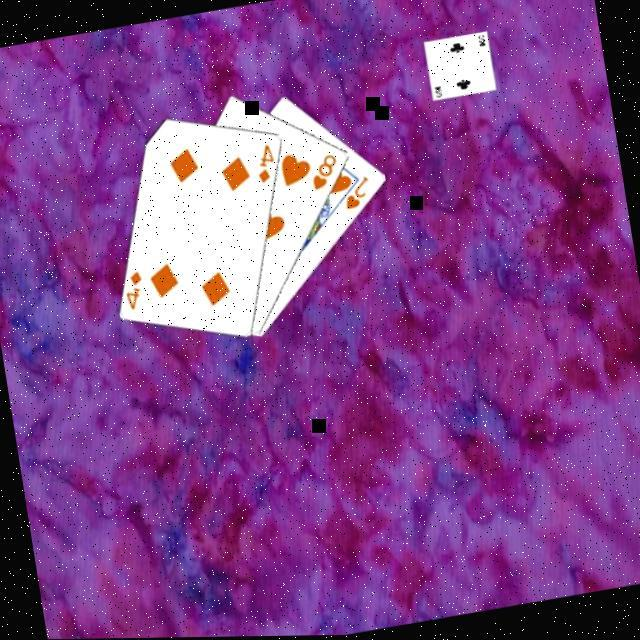4D: (120, 264, 150, 312), (251, 140, 281, 184)
8H: (306, 148, 344, 193)
JH: (339, 172, 376, 212)
